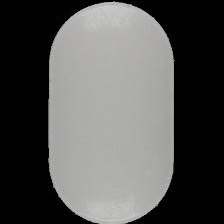10544-039: (0, 0, 224, 224)
